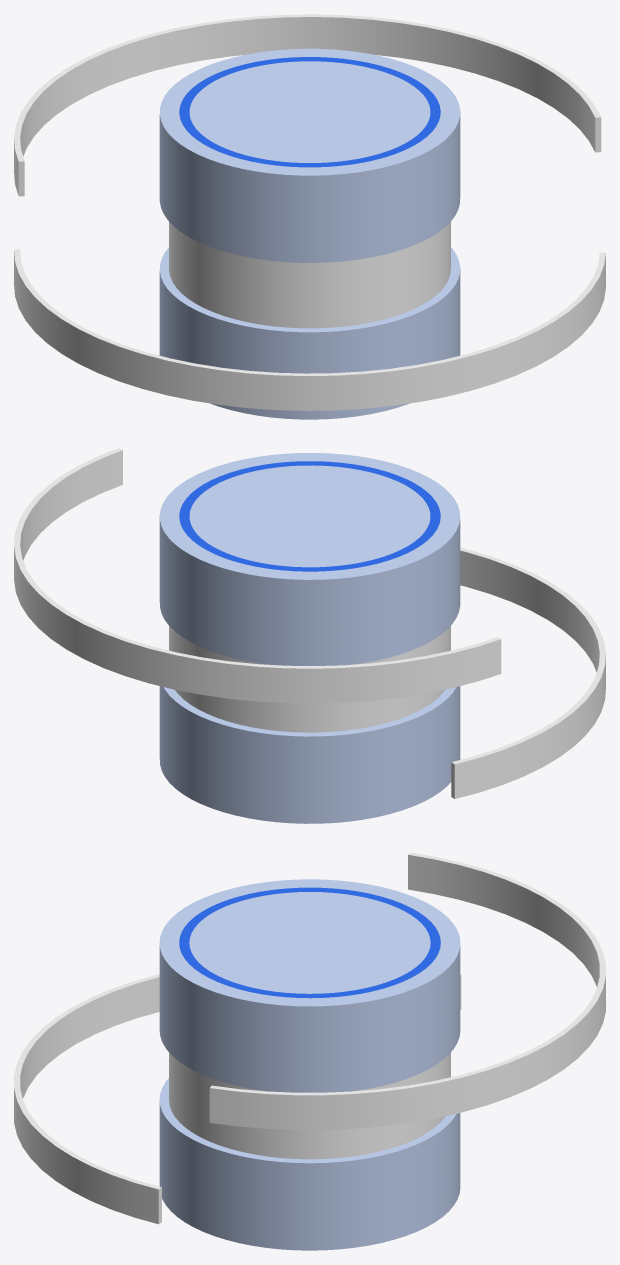
Rendered from zhuti.glb.
3 views of the same model, one above another, from view 1: azimuth 30°, elevation 25°; view 2: azimuth 150°, elevation 25°; view 3: azimuth 270°, elevation 25° (orthographic).
Visible parts, largest first — view 1: 柱体.005, 柱体.001, 柱体, 柱体.002, 柱体.003; view 2: 柱体.005, 柱体.002, 柱体, 柱体.001, 柱体.003; view 3: 柱体.005, 柱体.002, 柱体, 柱体.001, 柱体.003.
Part boxes in pixels (x1,y1,x2,y2): 柱体.005: [159, 48, 460, 262]; 柱体.001: [14, 249, 605, 410]; 柱体: [14, 14, 601, 196]; 柱体.002: [159, 247, 460, 419]; 柱体.003: [169, 222, 450, 328]; 柱体.005: [159, 453, 460, 665]; 柱体.002: [159, 686, 460, 823]; 柱体: [14, 448, 501, 703]; 柱体.001: [451, 547, 605, 798]; 柱体.003: [169, 626, 450, 732]; 柱体.005: [159, 879, 460, 1092]; 柱体.002: [159, 1078, 460, 1250]; 柱体: [209, 852, 605, 1129]; 柱体.001: [14, 974, 461, 1224]; 柱体.003: [169, 1052, 450, 1159].
Size of the model in its own units: 2.05 by 0.9342 by 2.05.
